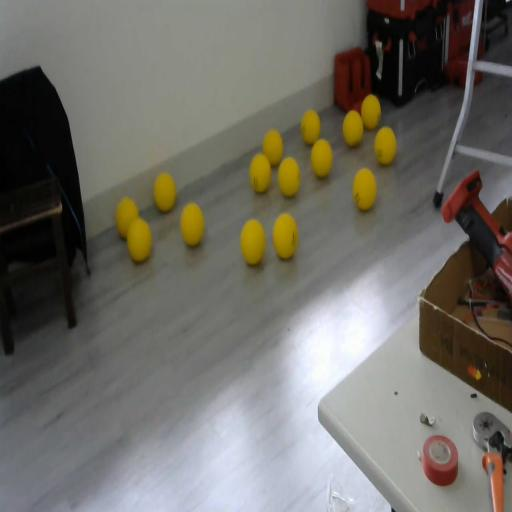FUEL: (272, 211, 298, 260), (240, 218, 266, 266), (125, 216, 152, 262), (180, 201, 204, 246), (352, 168, 376, 211), (249, 152, 272, 194), (278, 156, 300, 198), (310, 138, 333, 178), (154, 172, 176, 213), (262, 128, 284, 167), (342, 109, 364, 148), (374, 126, 396, 165), (360, 93, 382, 130), (301, 110, 320, 144)
